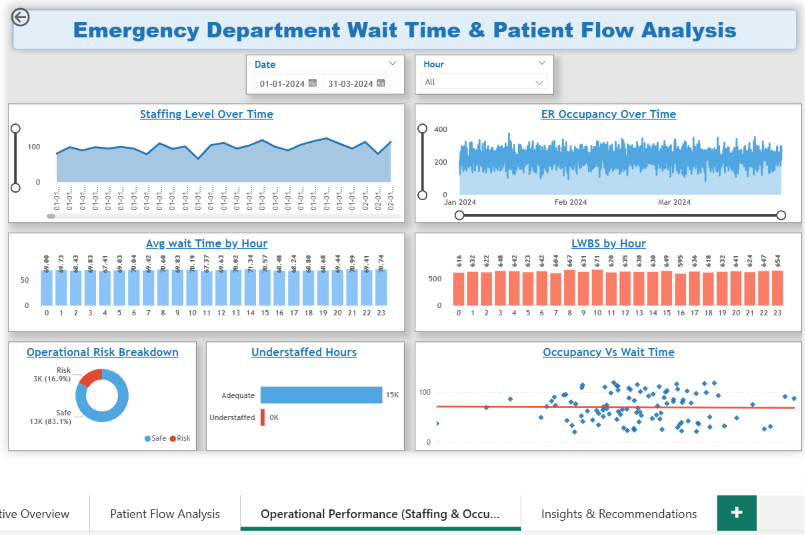

The page's visual inventory and layout, read from the dashboard file:
{"tool":"powerbi","page":{"name":"Operational Performance (Staffing & Occupancy)","canvas":[1280,720],"ordinal":2},"visuals":[{"type":"shape","box":[0,0,1280,80],"z":0},{"type":"areaChart","title":"Staffing Level Over Time","fields":{"Category":["er_hourly_metrics.datetime_hour.Variation.Date Hierarchy.Year"],"Y":["Measures Table 3.Staff Count"]},"box":[0,160,640,192],"z":1000},{"type":"areaChart","title":"ER Occupancy Over Time","fields":{"Y":["Measures Table 3.Total Occupancy"],"Category":["er_hourly_metrics.datetime_hour.Variation.Date Hierarchy.Month"]},"box":[656,160,624,192],"z":2000},{"type":"clusteredColumnChart","title":"Avg wait Time by Hour","fields":{"Y":["Avg(er_hourly_metrics.avg_wait_time_last_hour)"],"Category":["er_hourly_metrics.Hour"]},"box":[0,368,640,160],"z":3000},{"type":"clusteredColumnChart","title":"LWBS by Hour","fields":{"Y":["Sum(er_hourly_metrics.patients_left_without_being_seen_last_hour)"],"Category":["er_hourly_metrics.Hour"]},"box":[656,368,624,160],"z":4000},{"type":"donutChart","title":"Operational Risk Breakdown","fields":{"Category":["er_hourly_metrics.Operational Risk"],"Y":["Measures Table 3.Operational Risk Hours"]},"box":[0,544,304,176],"z":5000},{"type":"clusteredBarChart","title":"Understaffed Hours","fields":{"Category":["er_hourly_metrics.Understaffed Label"],"Y":["Measures Table 3.Hour Count"]},"box":[320,544,320,176],"z":6000},{"type":"scatterChart","title":"Occupancy Vs Wait Time","fields":{"X":["Avg(er_hourly_metrics.er_occupancy)"],"Y":["er_hourly_metrics.avg_wait_time_last_hour"]},"box":[656,544,624,176],"z":7000},{"type":"actionButton","box":[0,0,100,40],"z":8000},{"type":"slicer","title":"Date","fields":{"Values":["Calendar.Date"]},"box":[384,80,256,64],"z":9000},{"type":"slicer","fields":{"Values":["er_hourly_metrics.Hour"]},"box":[656,80,224,64],"z":10000}]}

Visuals, with their boxes on the page's 1280x720 design canvas (x1, y1, x2, y2). These are canvas units, not pixel positions in the 805x535 screenshot, which may show the page scaled, cropped or inside an application window:
shape: <bbox>0, 0, 1280, 80</bbox>
"Staffing Level Over Time" areaChart: <bbox>0, 160, 640, 352</bbox>
"ER Occupancy Over Time" areaChart: <bbox>656, 160, 1280, 352</bbox>
"Avg wait Time by Hour" clusteredColumnChart: <bbox>0, 368, 640, 528</bbox>
"LWBS by Hour" clusteredColumnChart: <bbox>656, 368, 1280, 528</bbox>
"Operational Risk Breakdown" donutChart: <bbox>0, 544, 304, 720</bbox>
"Understaffed Hours" clusteredBarChart: <bbox>320, 544, 640, 720</bbox>
"Occupancy Vs Wait Time" scatterChart: <bbox>656, 544, 1280, 720</bbox>
actionButton: <bbox>0, 0, 100, 40</bbox>
"Date" slicer: <bbox>384, 80, 640, 144</bbox>
slicer - er_hourly_metrics.Hour: <bbox>656, 80, 880, 144</bbox>
